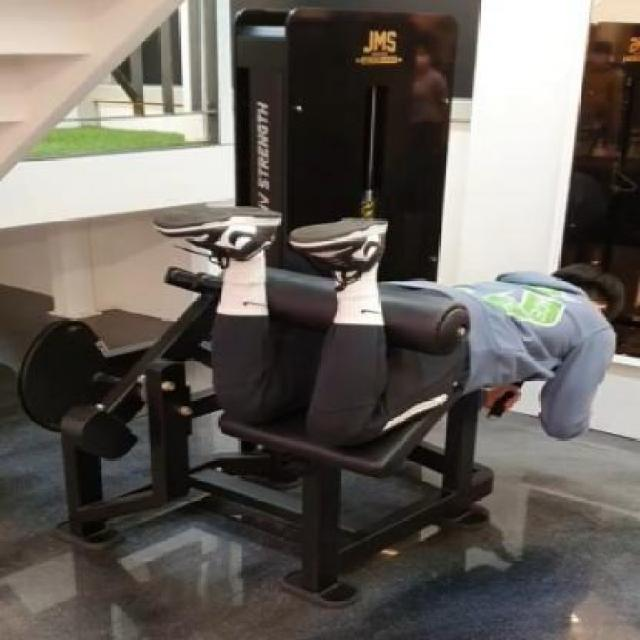reg curl machine: (20, 3, 632, 614)
